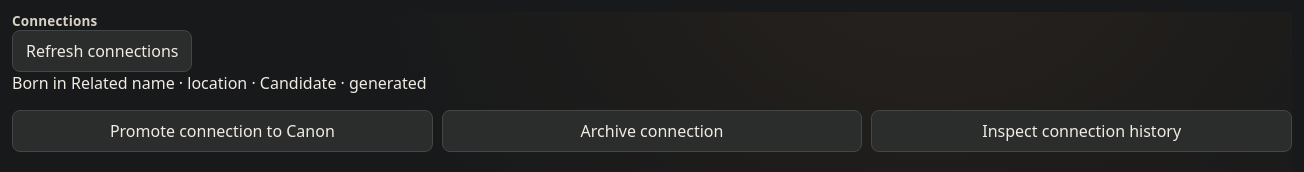
Scenario: Connections reload integrity › removes mutation controls when stale-state reload fails
Click the button "Promote connection to Canon": point(222, 131) [12,110,433,152]
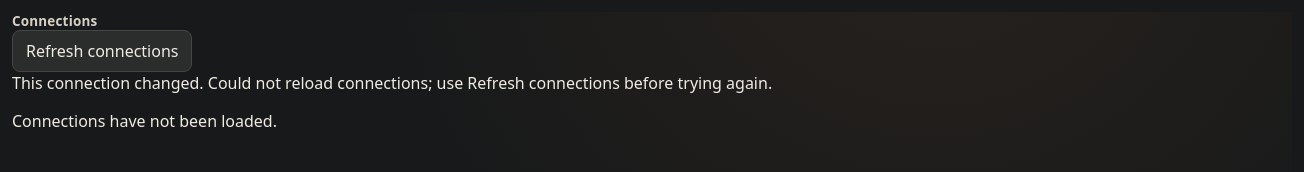
Expected: the message shows "Could not reload connections", [12,72,772,94]
Expected: the button "Promote connection to Canon" is gone
Expected: the button "Archive connection" is gone
